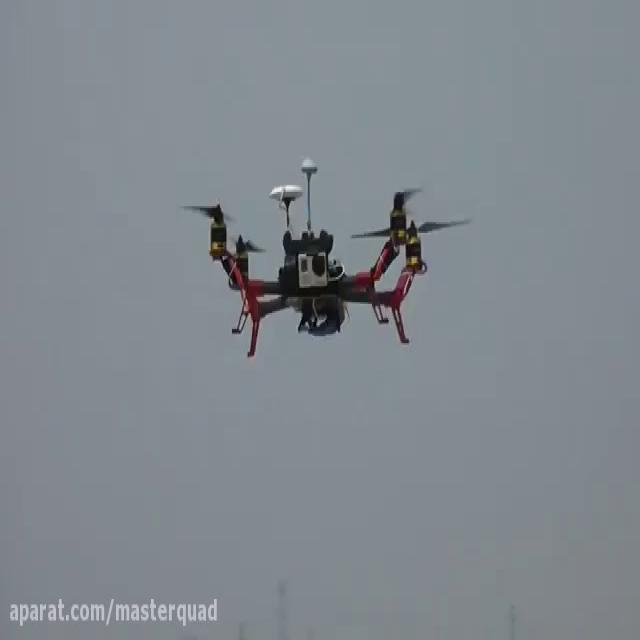drone: (177, 151, 474, 363)
